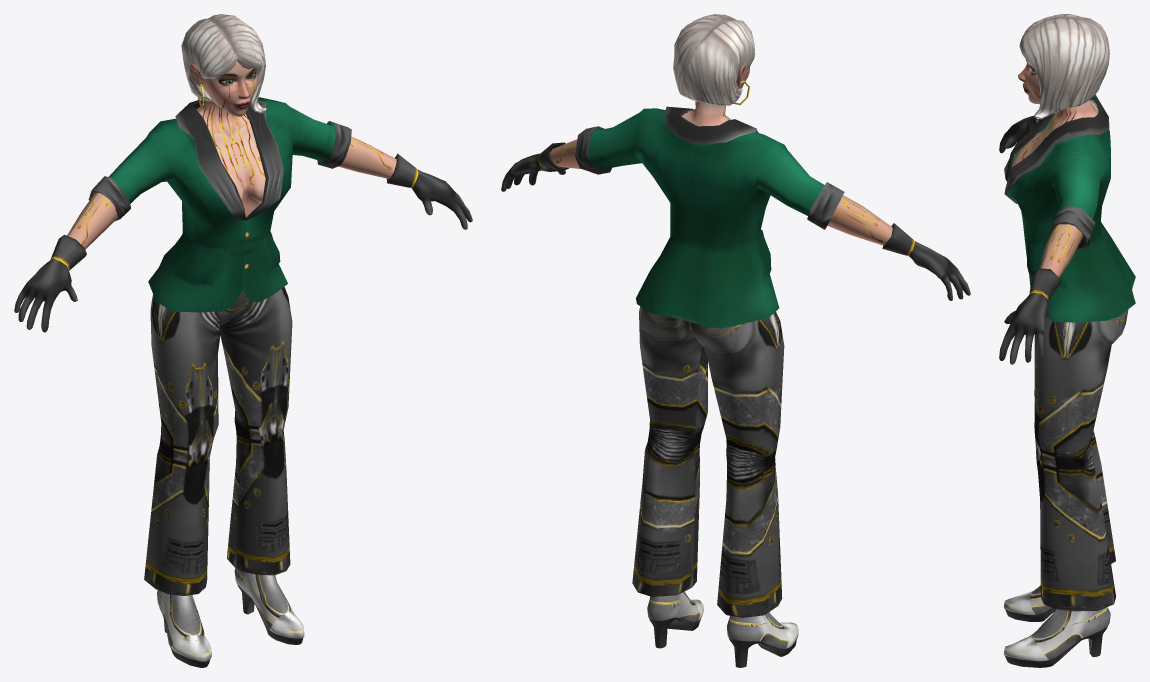
File: MEUF_FINAL.fbx
3 views of the same model, side by side, from view 1: azimuth 30°, elevation 25°; view 2: azimuth 150°, elevation 25°; view 3: azimuth 270°, elevation 25° (orthographic). The views are drawn at different scales.
Visible parts, largest first — view 1: meuf; view 2: meuf; view 3: meuf.
Boxes of the visible parts, x1,y1,x2,y2 form: meuf: (14,14,472,667); meuf: (501,14,970,667); meuf: (999,14,1135,667).
Bounding box in the file's own units: 146 × 192 × 38.37.
